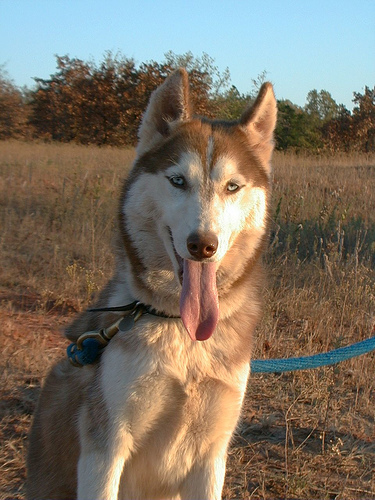dog: (23, 71, 275, 498)
